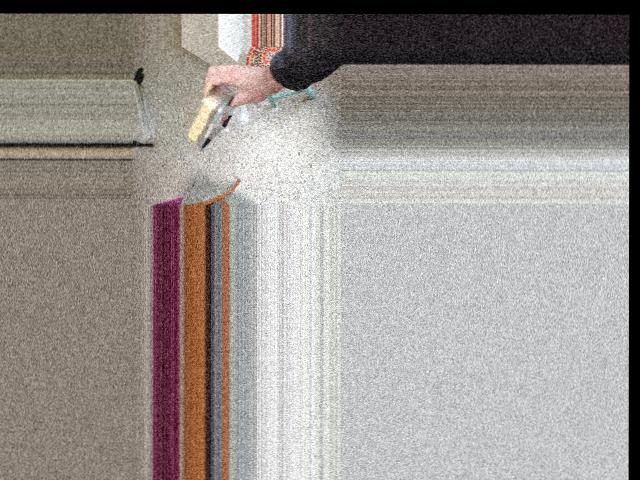cheese: (172, 52, 253, 154)
